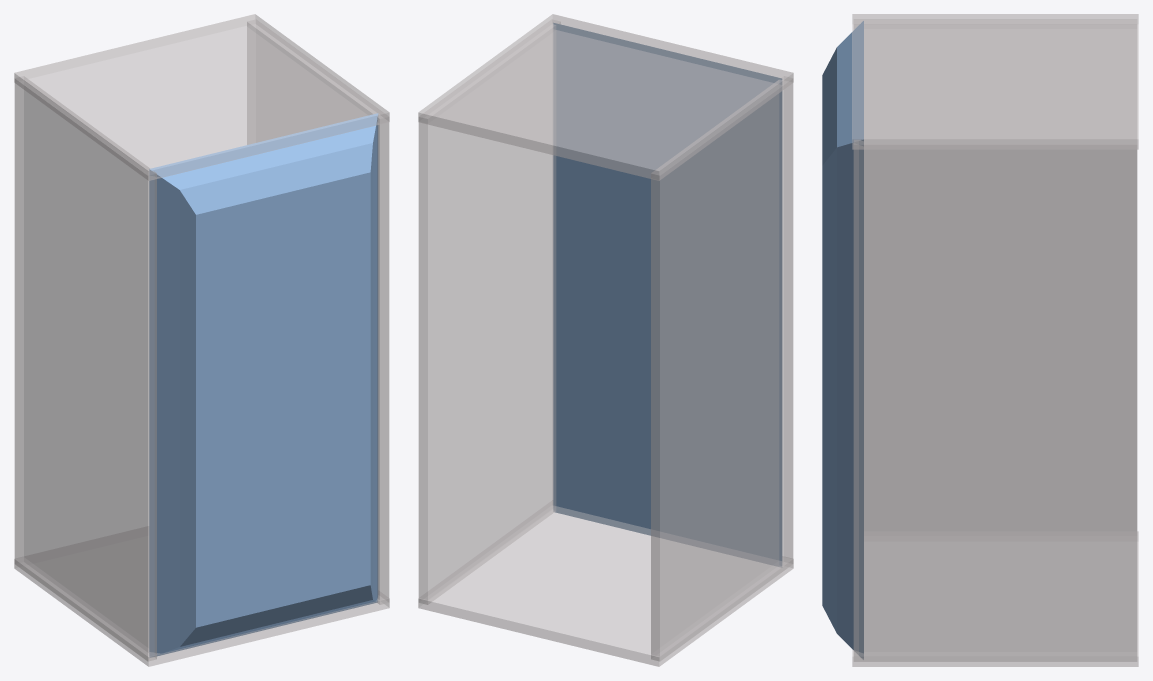
Rendered from peoplebox.fbx.
3 views of the same model, side by side, from view 1: azimuth 30°, elevation 25°; view 2: azimuth 150°, elevation 25°; view 3: azimuth 270°, elevation 25° (orthographic). The views are drawn at different scales.
Visible parts, largest first — view 1: Cube.002; view 2: Cube.002; view 3: Cube.002.
Part boxes in pixels (x1=…): Cube.002: x1=14, y1=14, x2=389, y2=666; Cube.002: x1=418, y1=14, x2=793, y2=666; Cube.002: x1=822, y1=14, x2=1138, y2=666.
Size of the model in its own units: 1040 by 2040 by 1109.
